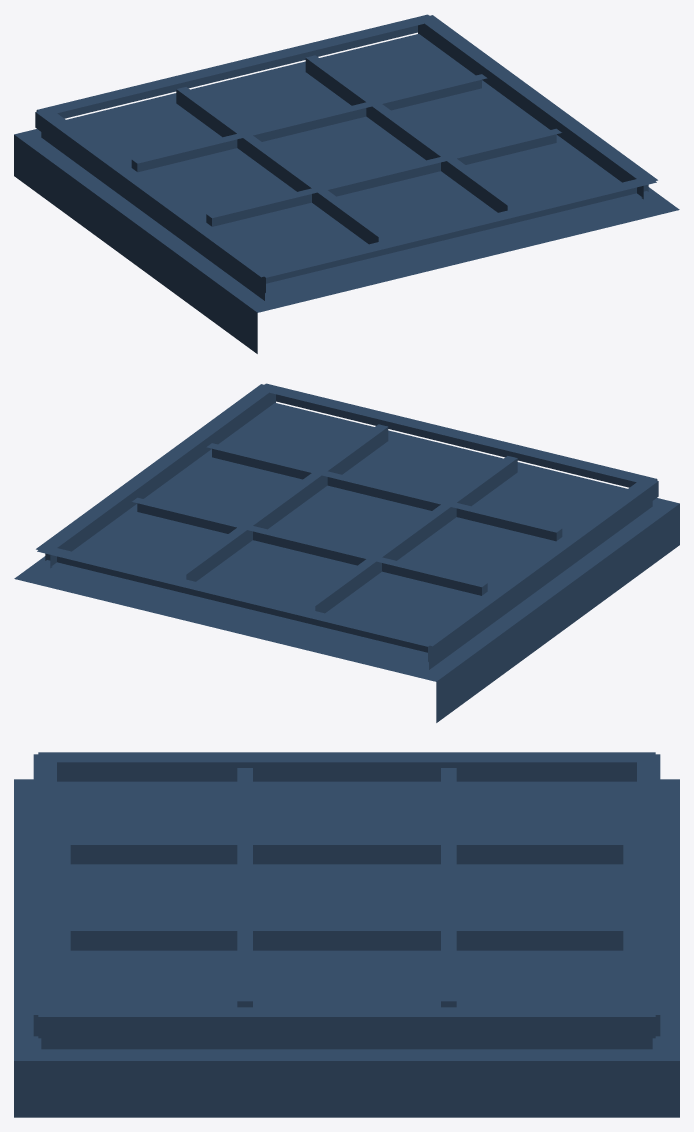
Rendered from xo_board.gltf.
3 views of the same model, one above another, from view 1: azimuth 30°, elevation 25°; view 2: azimuth 150°, elevation 25°; view 3: azimuth 270°, elevation 25° (orthographic). The views are drawn at different scales.
Size of the model in its own units: 3.4 by 0.52 by 3.4.
